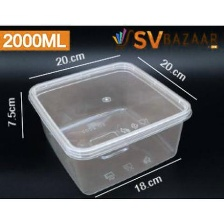plastic_box: (19, 55, 197, 198)
